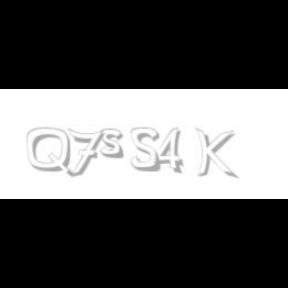4: (153, 128, 184, 174)
7: (68, 128, 104, 178)
K: (195, 128, 235, 180)
Q: (27, 128, 73, 178)
S: (130, 128, 162, 172)
s: (100, 128, 128, 160)
